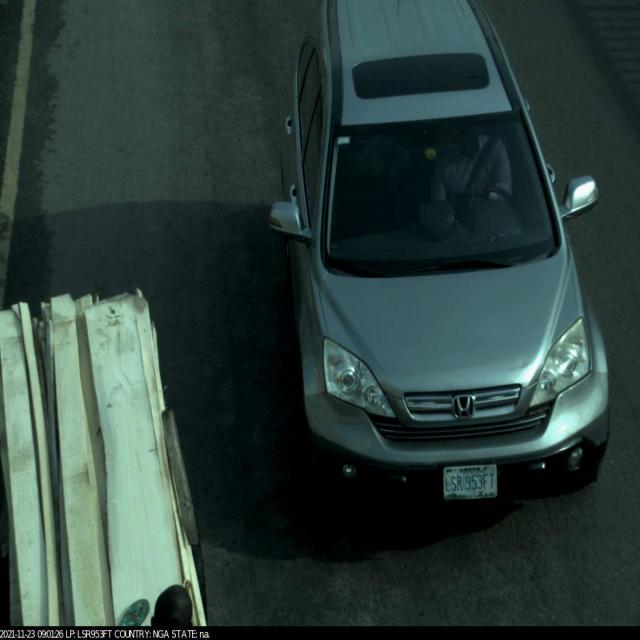windshield: (312, 102, 570, 284)
